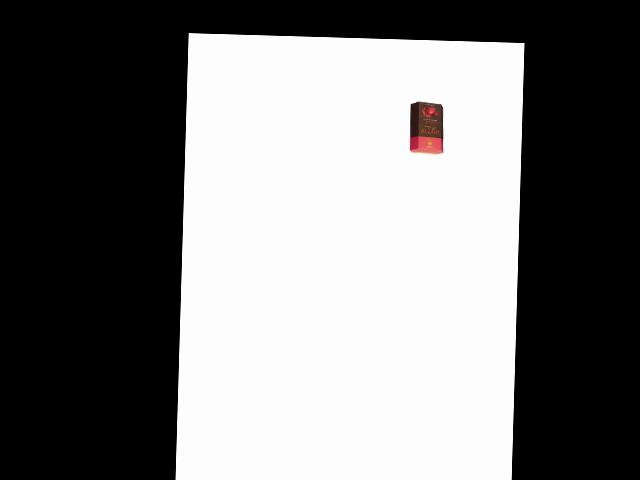chocolate: (407, 96, 445, 156)
